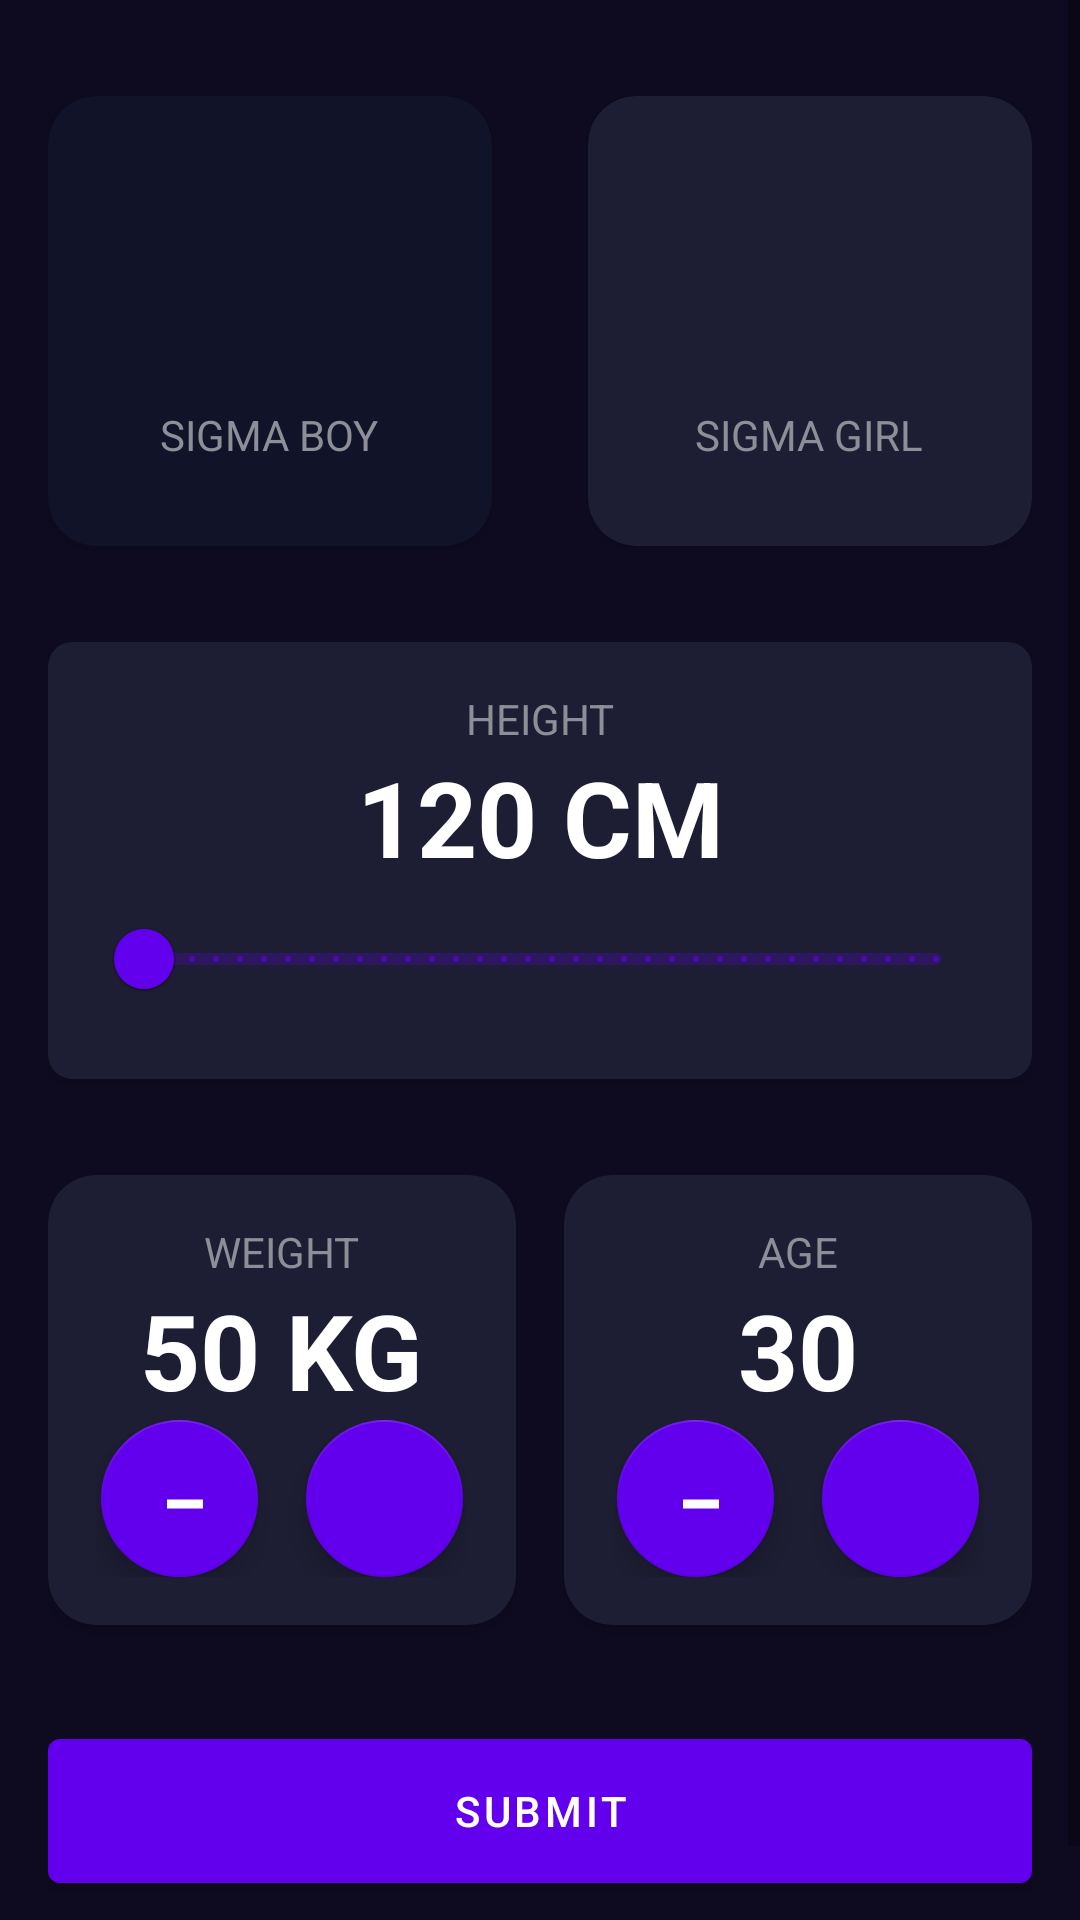

Named icons in this screenshot (1080 × 1920) and their centers, (x=x, y=y):
substract: (x=179, y=1498), (x=695, y=1498)
